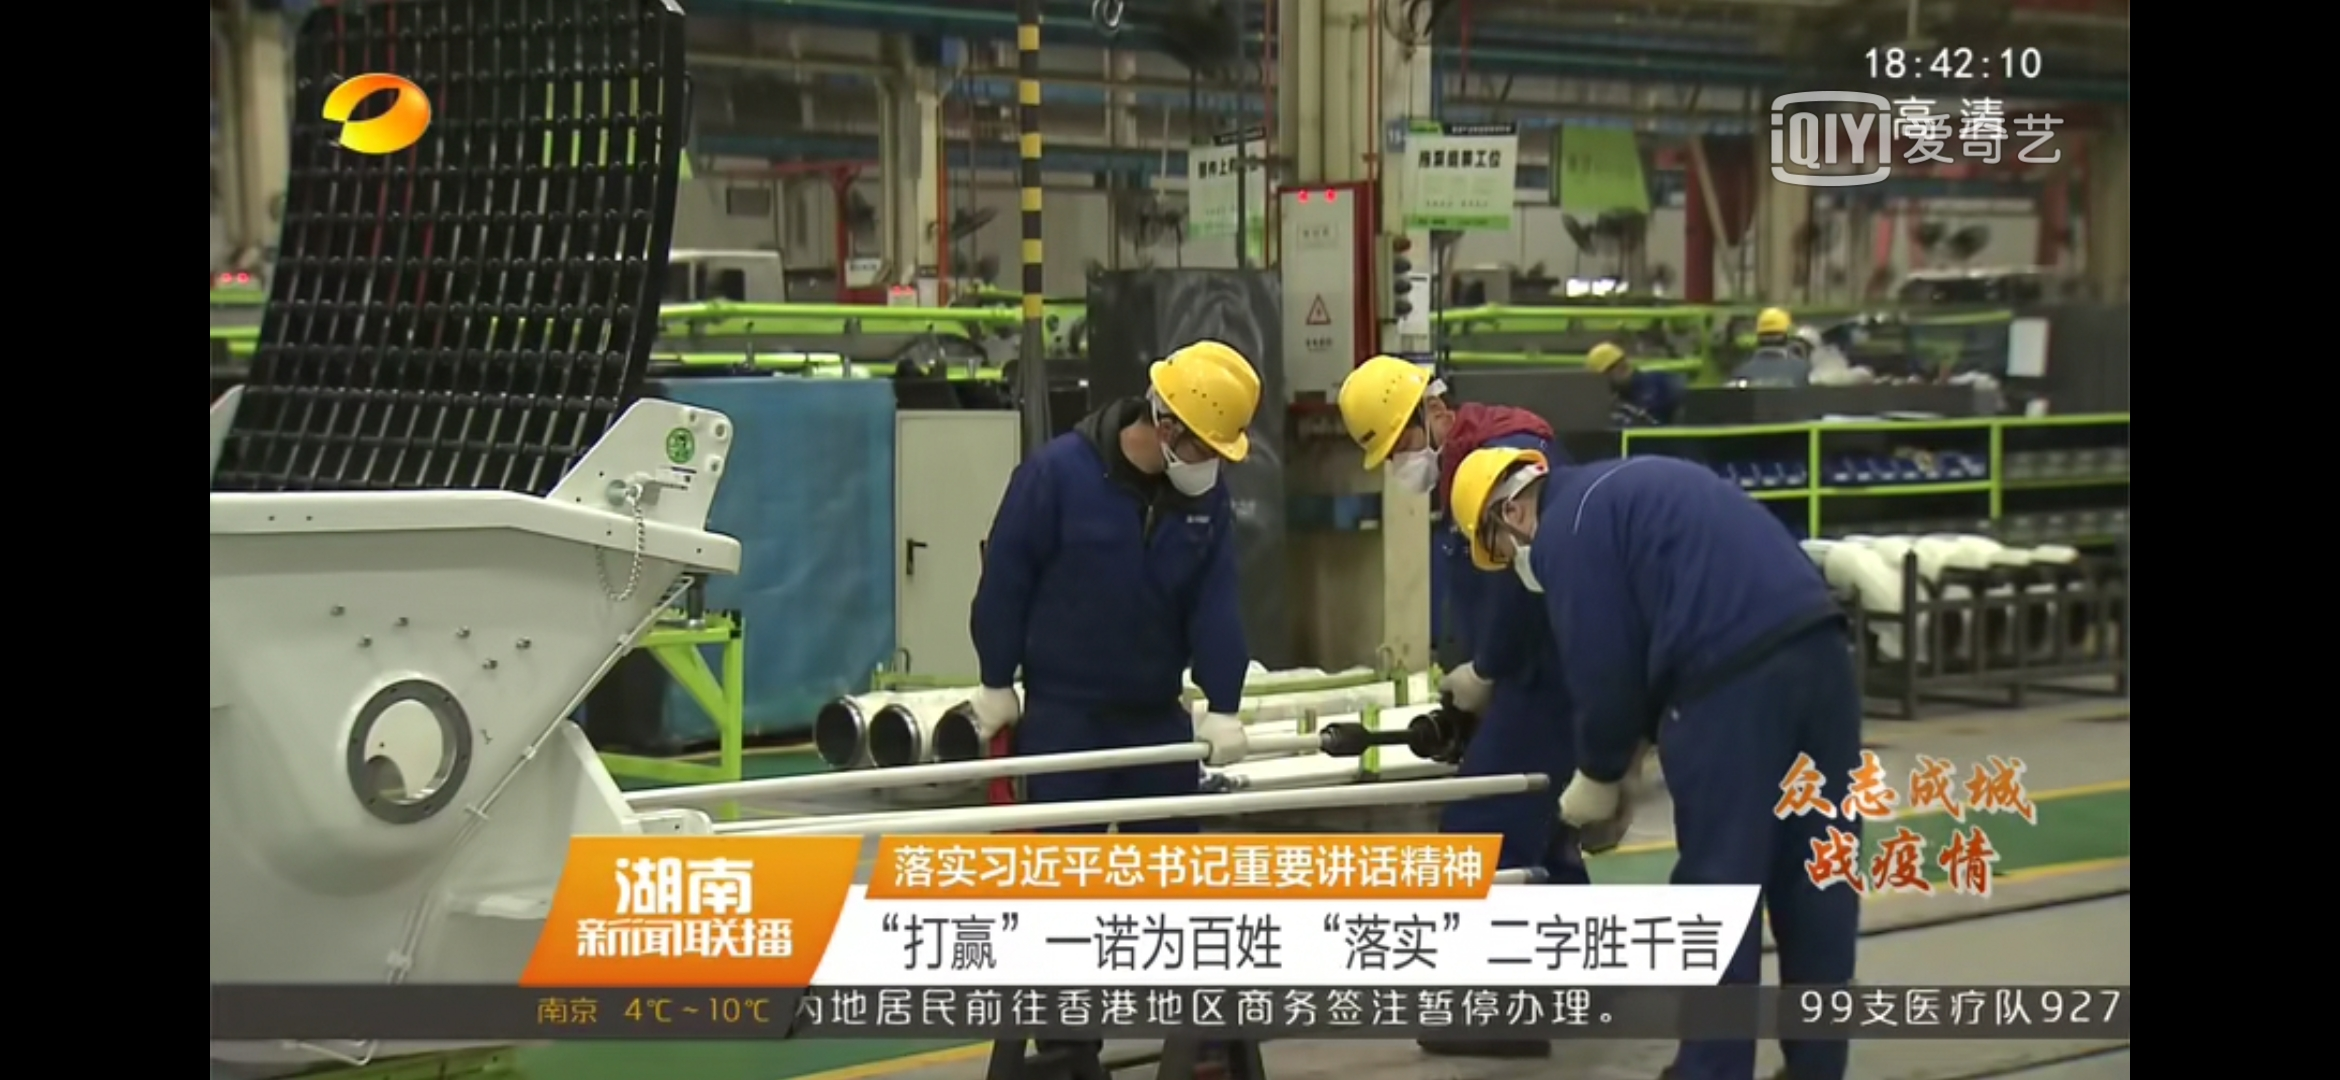correctlyWear: (1342, 377, 1455, 492), (1452, 471, 1548, 603), (1143, 392, 1254, 501)
